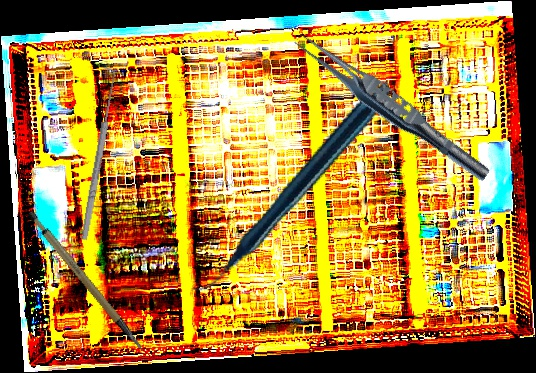Handpiece: (157, 81, 423, 293)
Hook Surgical: (72, 65, 121, 242)
Scalpel Handle: (24, 198, 145, 366)
Tissue Forceps: (286, 26, 497, 187)
